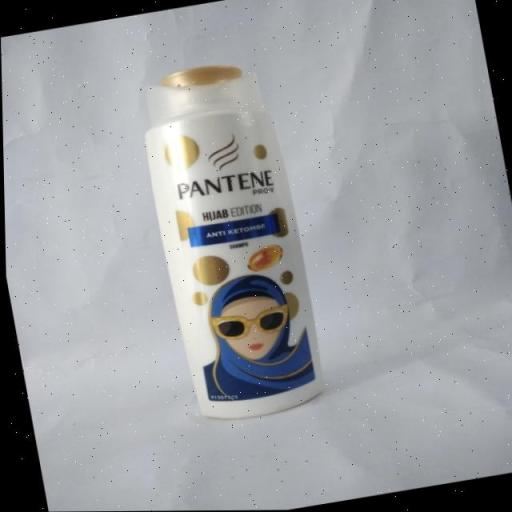plastic: (111, 40, 349, 434)
